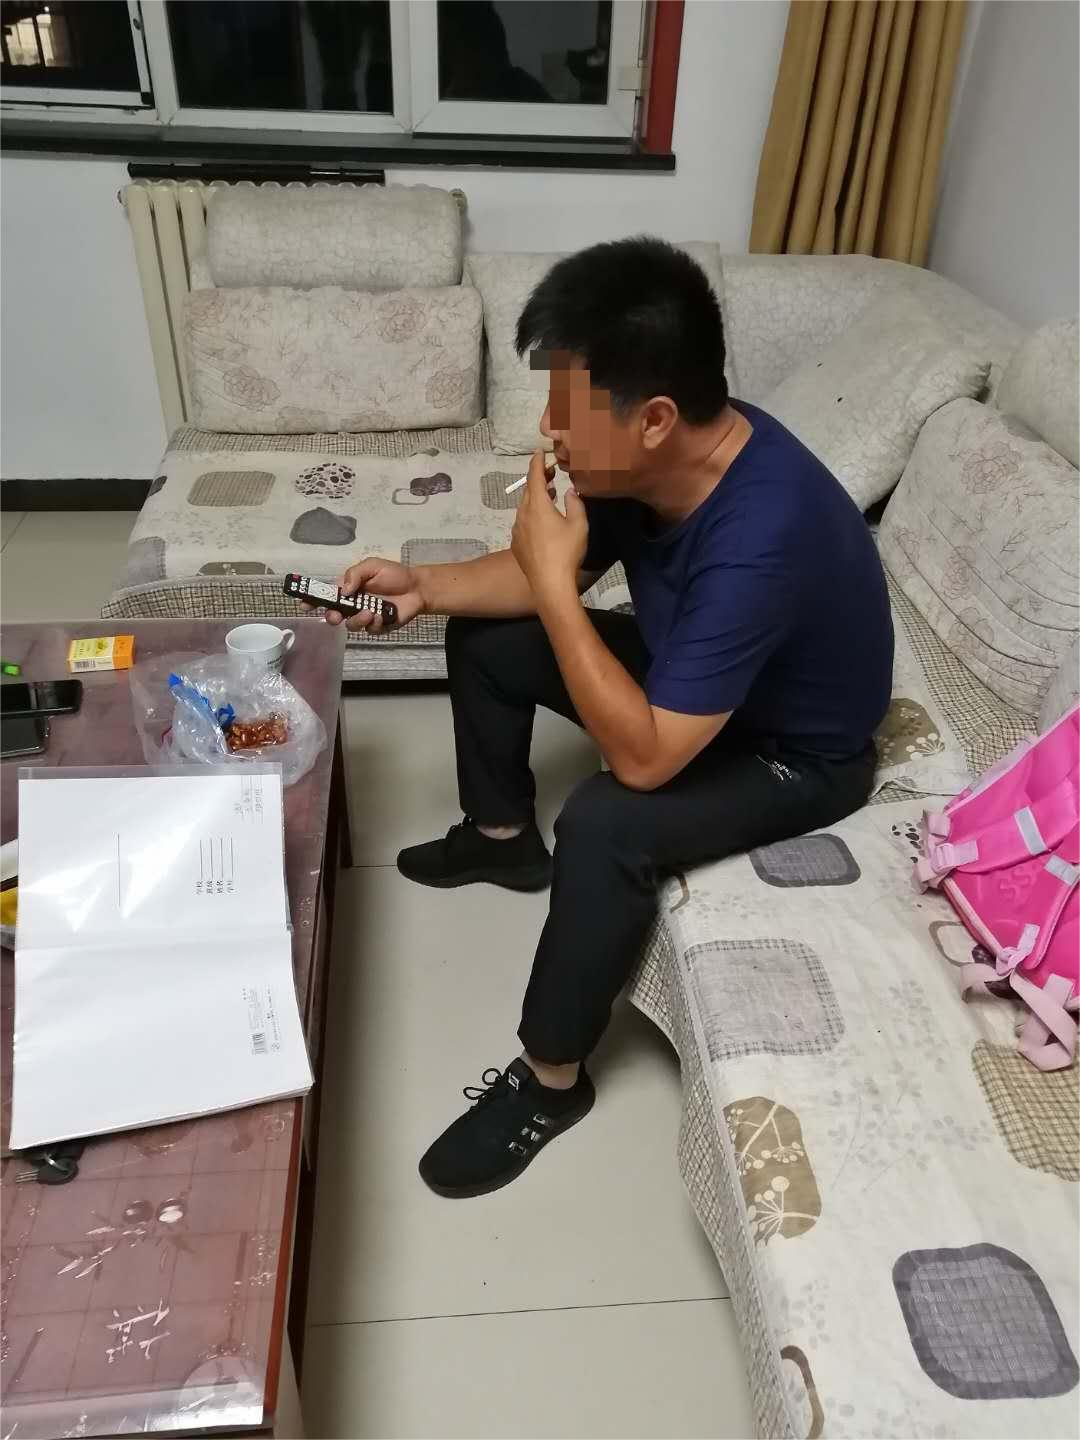smoke: (500, 460, 562, 497)
